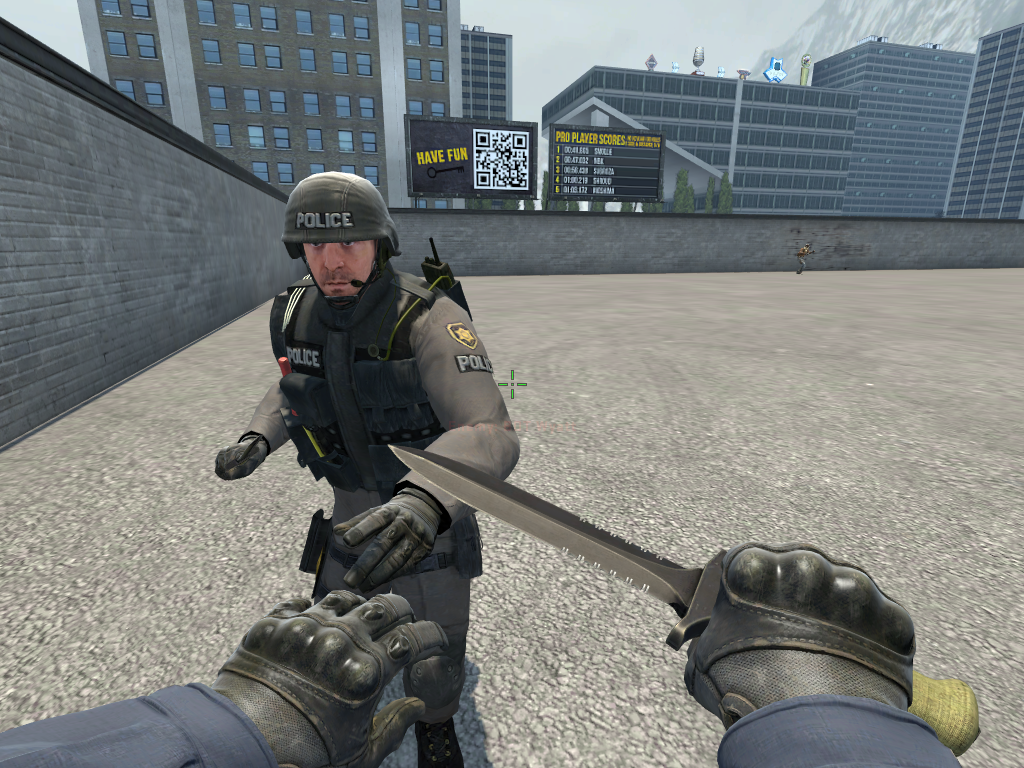ct head: (274, 167, 407, 318)
tr head: (803, 243, 812, 252)
